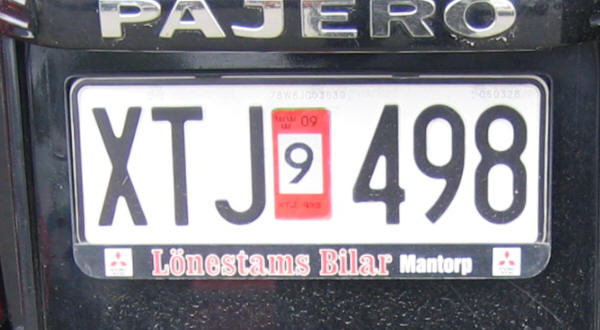license_plate: (67, 75, 547, 247)
